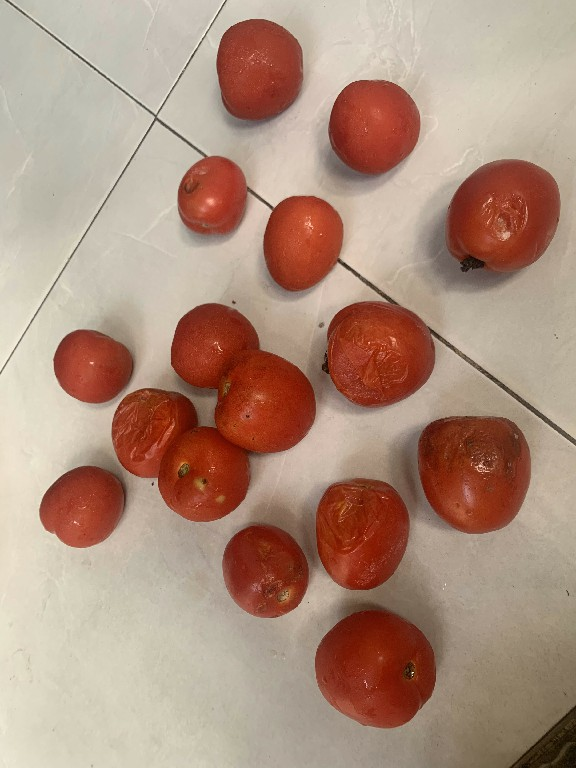NG: (409, 407, 540, 539), (439, 155, 565, 285), (316, 294, 439, 410), (308, 465, 407, 592), (213, 347, 317, 451), (109, 386, 215, 480), (152, 428, 248, 525), (221, 519, 312, 621), (169, 147, 247, 242)
OK: (300, 598, 444, 731), (208, 17, 314, 132), (323, 69, 423, 181), (259, 187, 343, 295), (167, 297, 262, 387), (39, 462, 130, 545), (46, 321, 132, 407)
